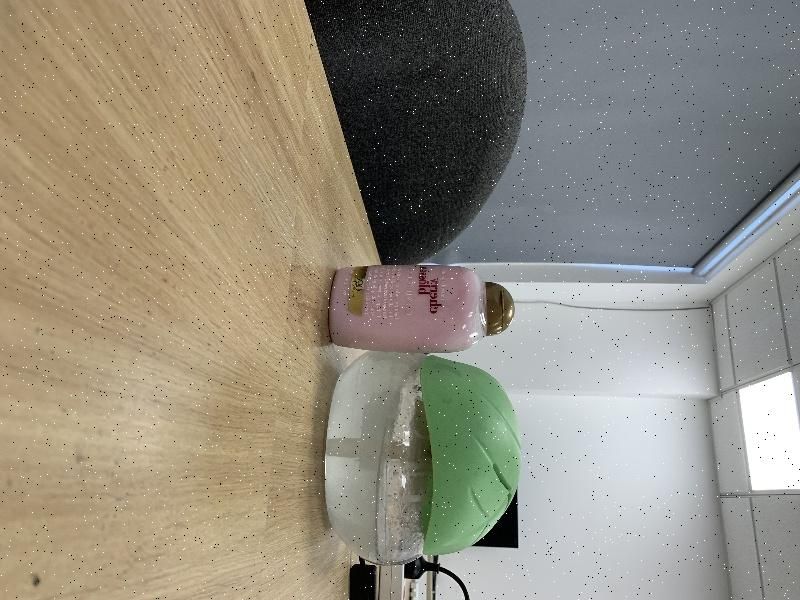CherryBlossom_Conditioner: (328, 265, 515, 353)
